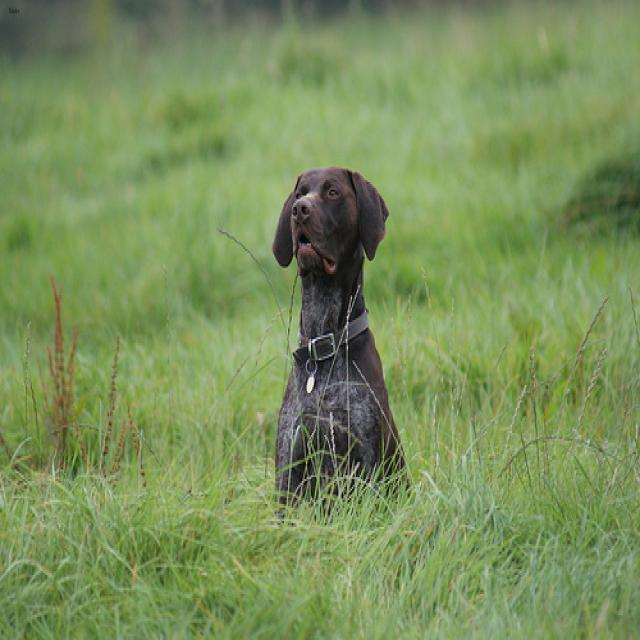dog-german_shorthaired: (266, 153, 421, 537)
